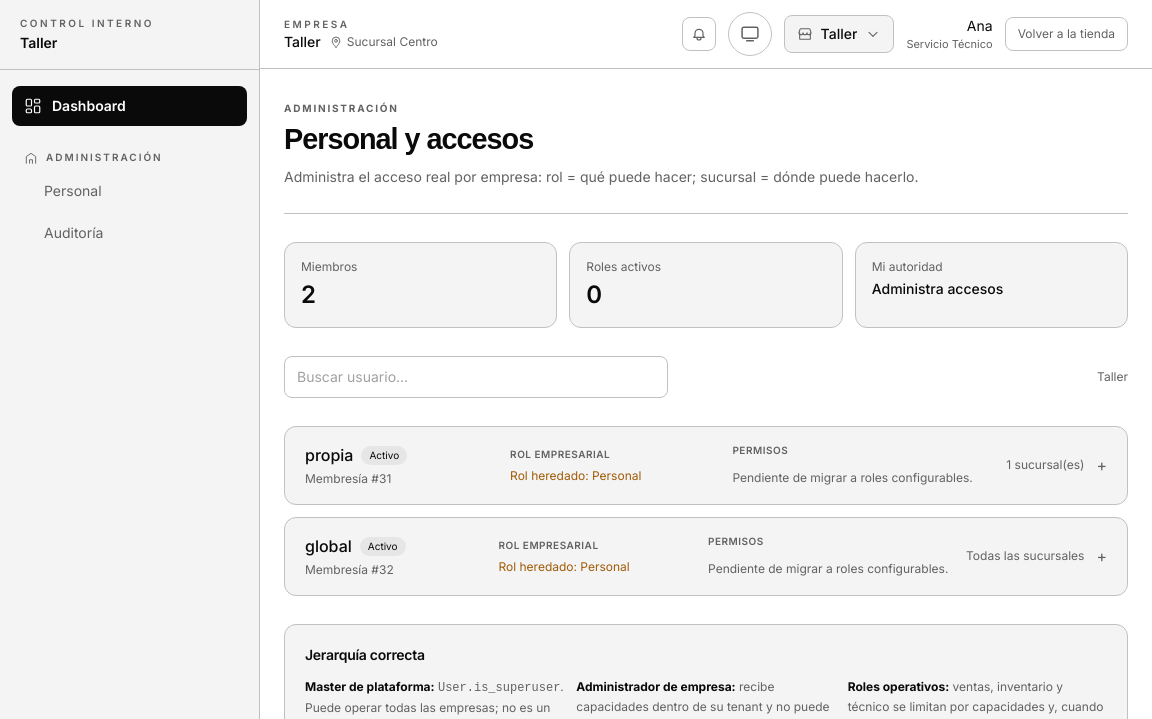
it: Usuarios · alcance por sucursal › SELECTED is not offered "Todas" nor branches it does not reach
Click the text "propia" at [329, 455], box [305,443,354,467]
(page scrolled)
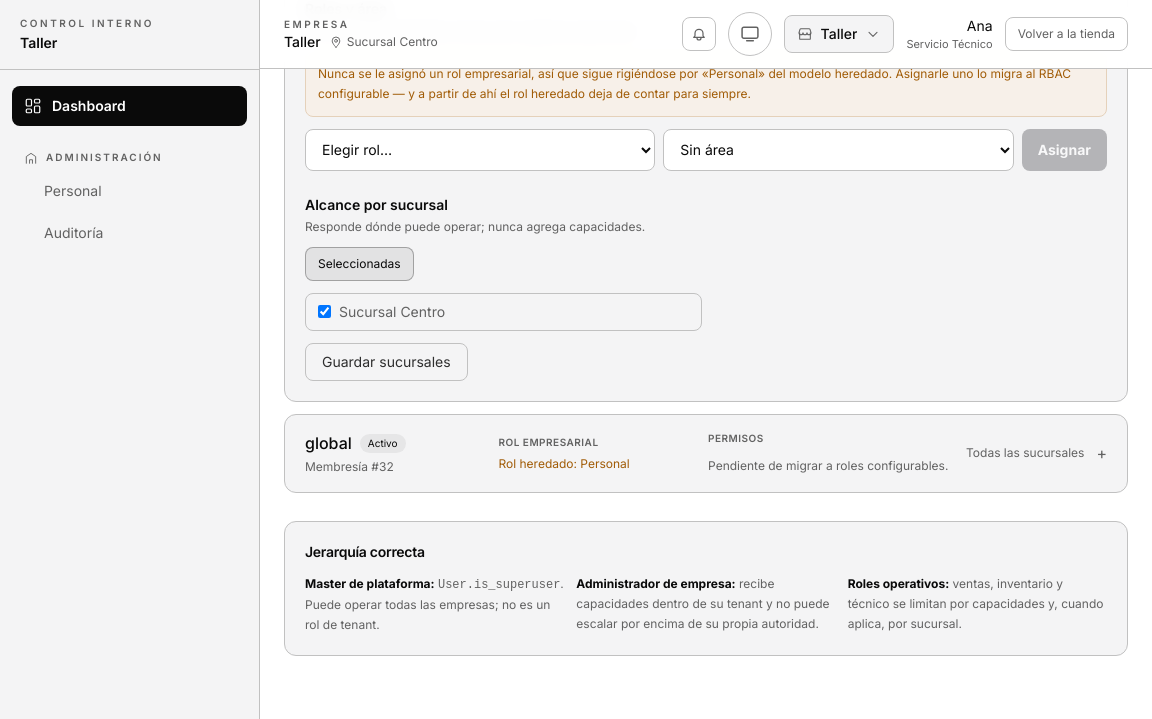
expect the checkbox labelled "Sucursal Centro" is shown: met, box [318,305,331,318]
expect the button "Guardar sucursales" is shown: met, box [305,342,468,380]
